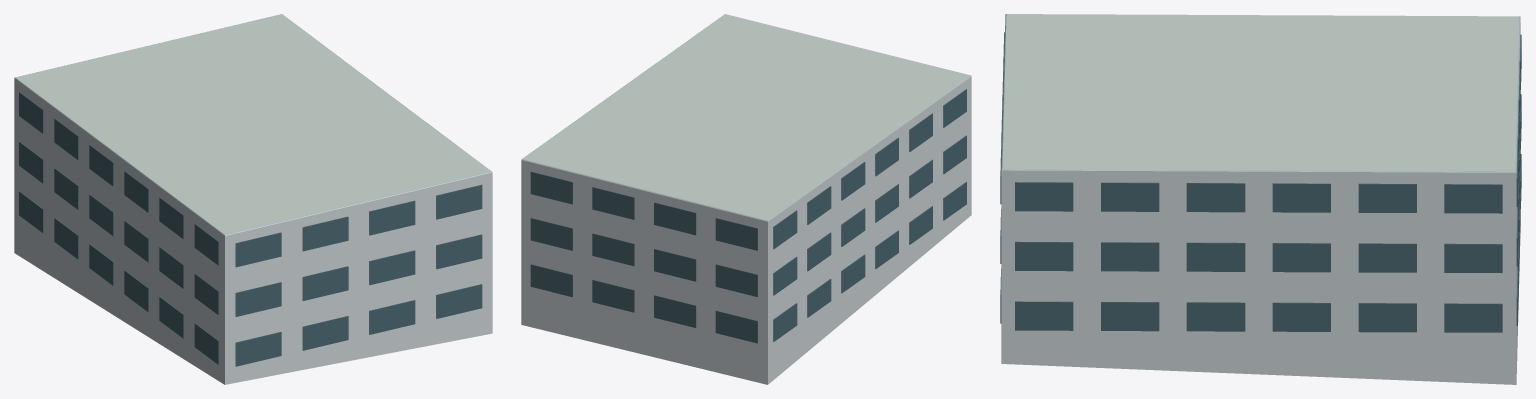
The model's file is fragments.glb.
3 views of the same model, side by side, from view 1: azimuth 30°, elevation 25°; view 2: azimuth 150°, elevation 25°; view 3: azimuth 270°, elevation 25° (orthographic). The views are drawn at different scales.
Parts seen in each view (by area): view 1: SM_osm-468931915_Fragment_032, SM_osm-468931915_Fragment_006, SM_osm-468931915_Fragment_020, SM_osm-468931915_Fragment_004, SM_osm-468931915_Fragment_016, SM_osm-468931915_Fragment_013, SM_osm-468931915_Fragment_009, SM_osm-468931915_Fragment_050, SM_osm-468931915_Fragment_028, SM_osm-468931915_Fragment_060, SM_osm-468931915_Fragment_058, SM_osm-468931915_Fragment_037 (+25 smaller); view 2: SM_osm-468931915_Fragment_017, SM_osm-468931915_Fragment_004, SM_osm-468931915_Fragment_022, SM_osm-468931915_Fragment_001, SM_osm-468931915_Fragment_029, SM_osm-468931915_Fragment_013, SM_osm-468931915_Fragment_009, SM_osm-468931915_Fragment_062, SM_osm-468931915_Fragment_060, SM_osm-468931915_Fragment_059, SM_osm-468931915_Fragment_024, SM_osm-468931915_Fragment_035 (+25 smaller); view 3: SM_osm-468931915_Fragment_034, SM_osm-468931915_Fragment_051, SM_osm-468931915_Fragment_003, SM_osm-468931915_Fragment_021, SM_osm-468931915_Fragment_001, SM_osm-468931915_Fragment_056, SM_osm-468931915_Fragment_041, SM_osm-468931915_Fragment_005, SM_osm-468931915_Fragment_031, SM_osm-468931915_Fragment_013, SM_osm-468931915_Fragment_042, SM_osm-468931915_Fragment_019 (+21 smaller).
Part boxes in pixels (bbox=[...]): SM_osm-468931915_Fragment_032: bbox=[258, 186, 348, 318]; SM_osm-468931915_Fragment_006: bbox=[302, 173, 440, 246]; SM_osm-468931915_Fragment_020: bbox=[194, 211, 281, 320]; SM_osm-468931915_Fragment_004: bbox=[14, 60, 130, 164]; SM_osm-468931915_Fragment_016: bbox=[191, 308, 283, 384]; SM_osm-468931915_Fragment_013: bbox=[216, 134, 349, 186]; SM_osm-468931915_Fragment_009: bbox=[89, 124, 197, 223]; SM_osm-468931915_Fragment_050: bbox=[337, 147, 482, 230]; SM_osm-468931915_Fragment_028: bbox=[402, 275, 492, 350]; SM_osm-468931915_Fragment_060: bbox=[157, 183, 264, 253]; SM_osm-468931915_Fragment_058: bbox=[423, 219, 492, 313]; SM_osm-468931915_Fragment_037: bbox=[281, 298, 354, 373]; SM_osm-468931915_Fragment_017: bbox=[642, 188, 740, 328]; SM_osm-468931915_Fragment_004: bbox=[697, 180, 814, 265]; SM_osm-468931915_Fragment_022: bbox=[561, 150, 693, 232]; SM_osm-468931915_Fragment_001: bbox=[521, 144, 595, 265]; SM_osm-468931915_Fragment_029: bbox=[715, 257, 801, 364]; SM_osm-468931915_Fragment_013: bbox=[728, 66, 860, 120]; SM_osm-468931915_Fragment_009: bbox=[790, 124, 898, 218]; SM_osm-468931915_Fragment_062: bbox=[567, 266, 634, 351]; SM_osm-468931915_Fragment_060: bbox=[858, 75, 953, 155]; SM_osm-468931915_Fragment_059: bbox=[801, 208, 865, 322]; SM_osm-468931915_Fragment_024: bbox=[694, 322, 806, 384]; SM_osm-468931915_Fragment_035: bbox=[813, 90, 918, 198]; SM_osm-468931915_Fragment_034: bbox=[1001, 156, 1159, 280]; SM_osm-468931915_Fragment_051: bbox=[1101, 183, 1254, 316]; SM_osm-468931915_Fragment_003: bbox=[1045, 273, 1206, 372]; SM_osm-468931915_Fragment_021: bbox=[1326, 135, 1462, 243]; SM_osm-468931915_Fragment_001: bbox=[1414, 147, 1518, 297]; SM_osm-468931915_Fragment_056: bbox=[1186, 259, 1350, 374]; SM_osm-468931915_Fragment_041: bbox=[1253, 193, 1416, 303]; SM_osm-468931915_Fragment_005: bbox=[1203, 126, 1330, 237]; SM_osm-468931915_Fragment_031: bbox=[1252, 302, 1418, 380]; SM_osm-468931915_Fragment_013: bbox=[1080, 58, 1246, 121]; SM_osm-468931915_Fragment_042: bbox=[1378, 250, 1517, 362]; SM_osm-468931915_Fragment_019: bbox=[1098, 119, 1219, 196].
Size of the model in its own units: 1.59 by 0.9922 by 2.2.
